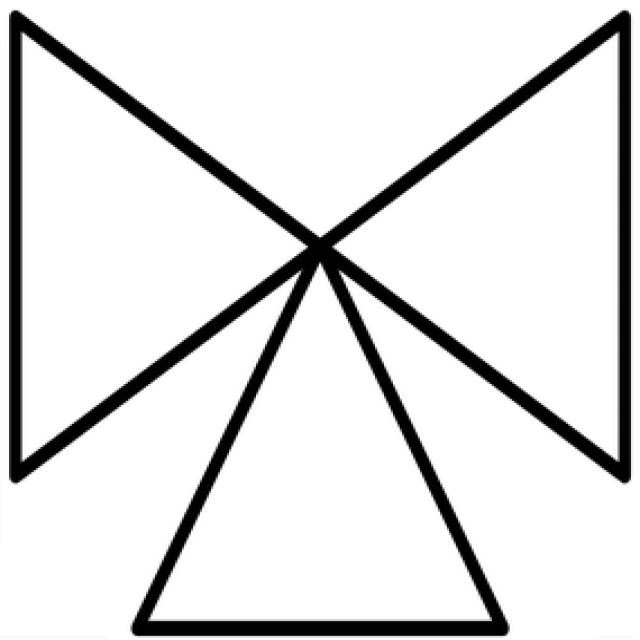3-way Valve: (11, 10, 627, 634)
